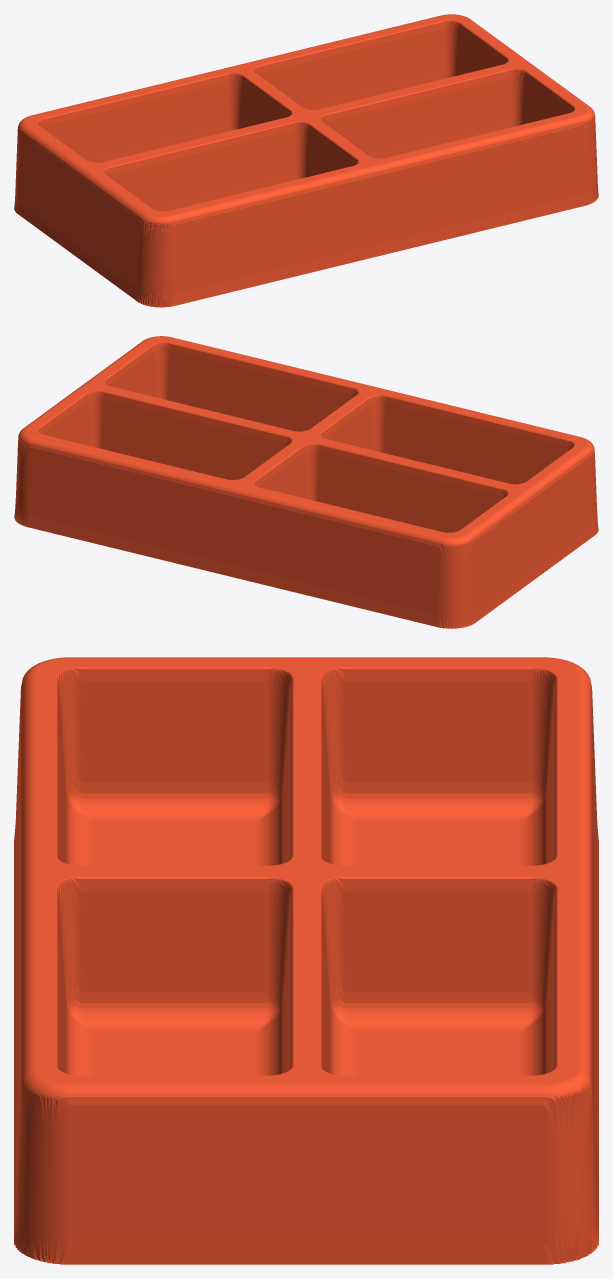
Rendered from mold.glb.
3 renders of one model, top to bottom at view 1: azimuth 30°, elevation 25°; view 2: azimuth 150°, elevation 25°; view 3: azimuth 270°, elevation 25°, orthographic. The views are drawn at different scales.
Parts seen in each view (by area): view 1: geometry_0; view 2: geometry_0; view 3: geometry_0.
Boxes of the visible parts, left/top/right/bottom form: geometry_0: left=14, top=14, right=598, bottom=307; geometry_0: left=14, top=336, right=598, bottom=628; geometry_0: left=14, top=657, right=598, bottom=1264.
Size of the model in its own units: 0.1721 by 0.031 by 0.0959.
